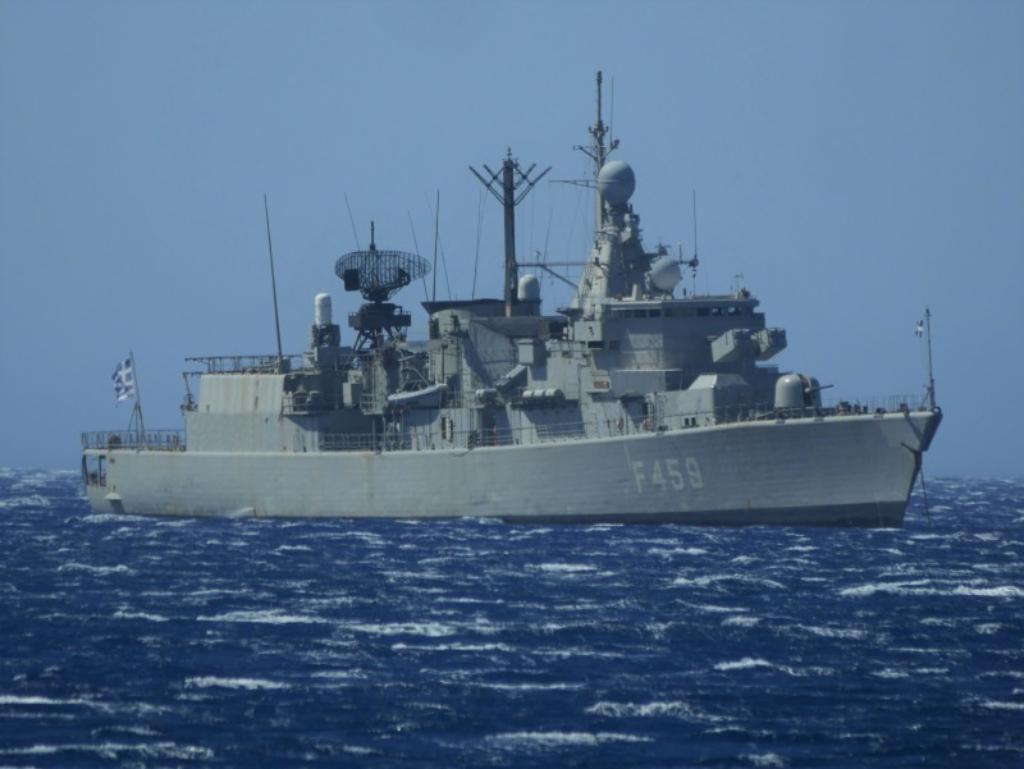Warship: (72, 59, 946, 527)
